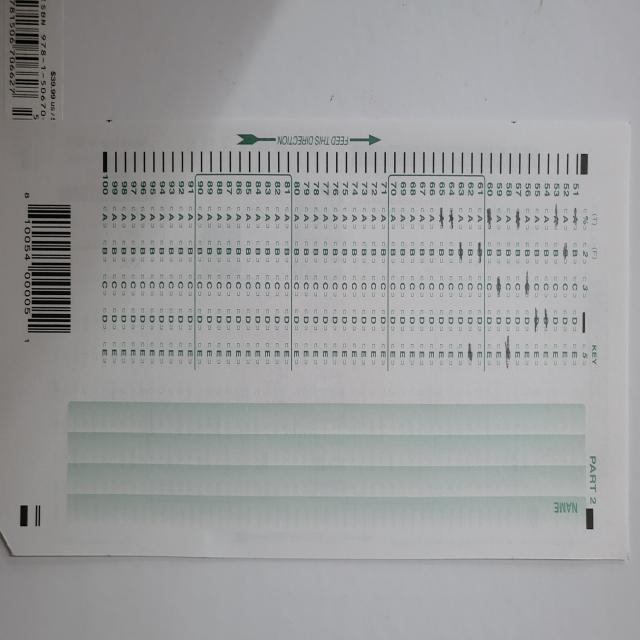scantron_back: (0, 119, 631, 561)
